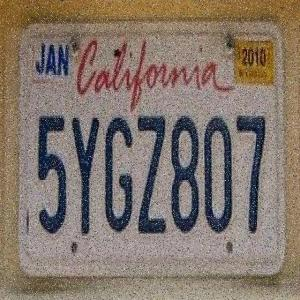Plate: (15, 9, 289, 287)
